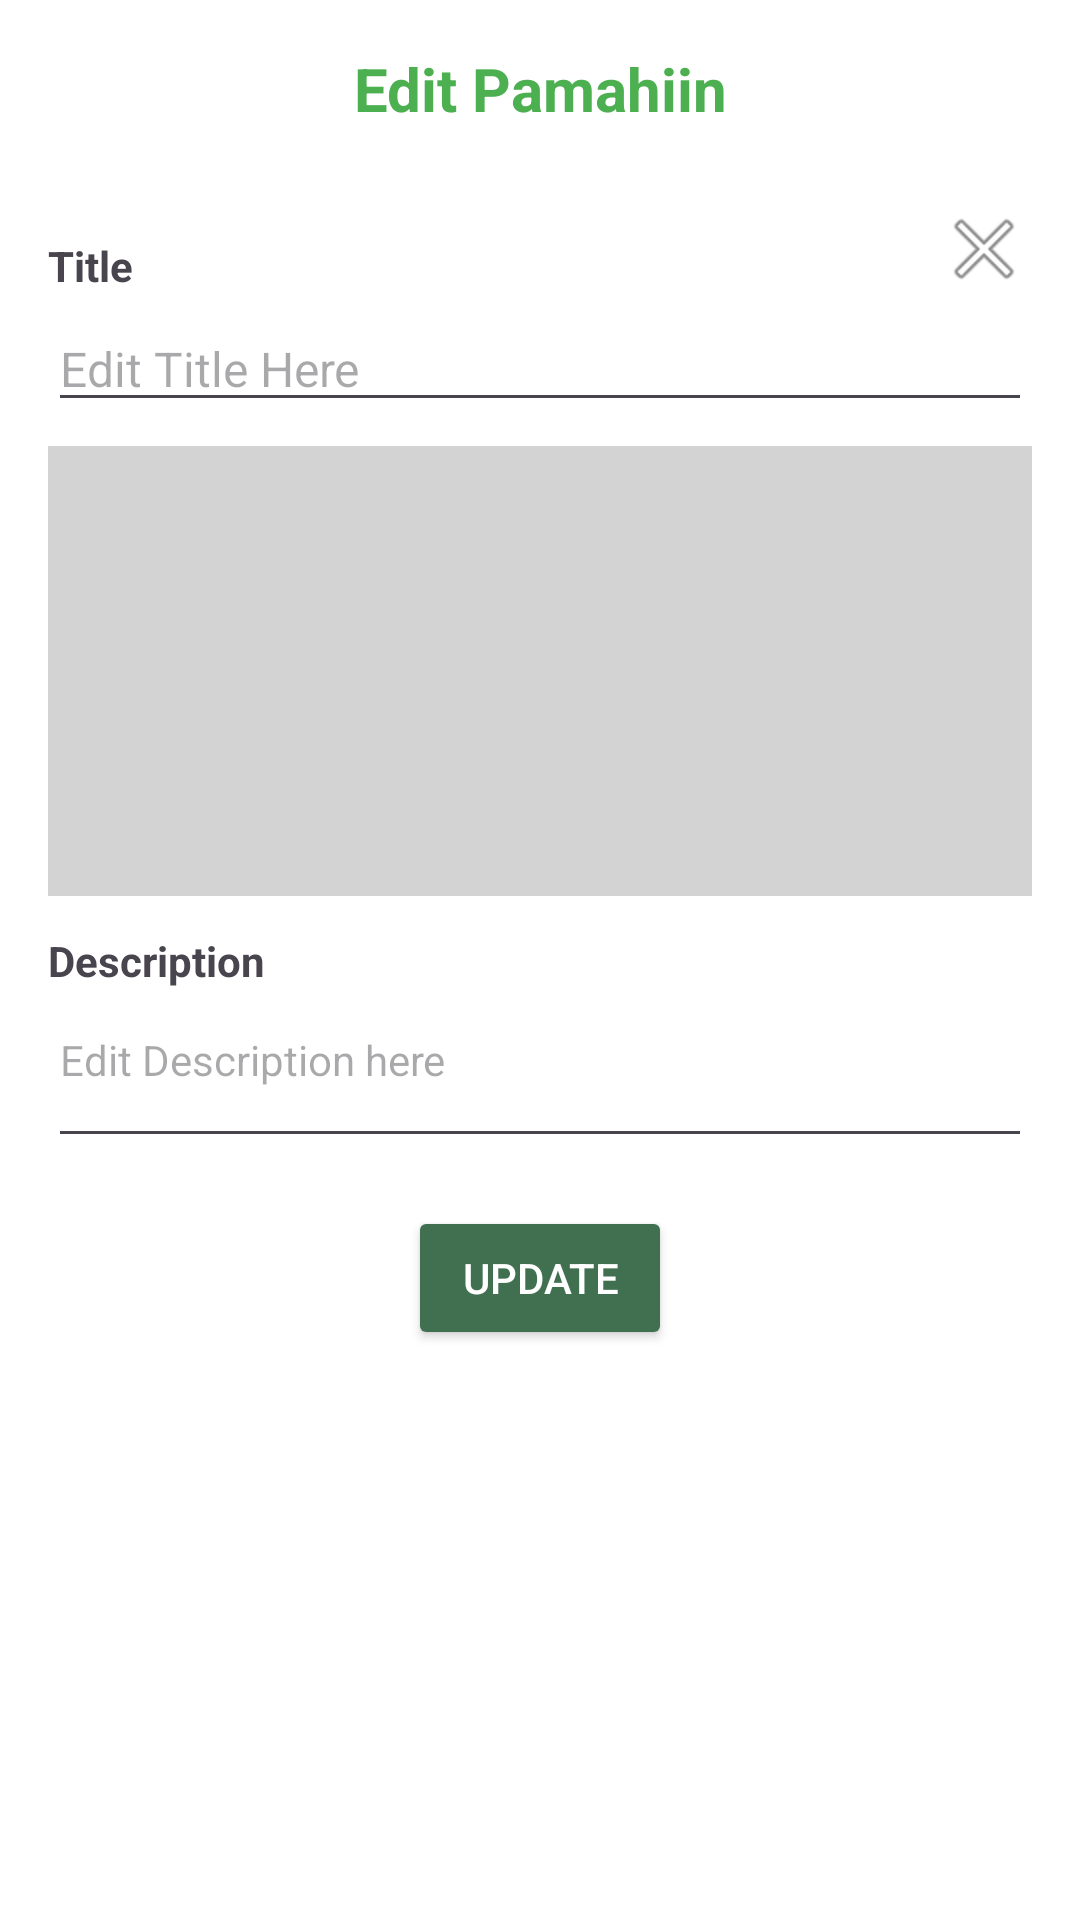

Named icons in this screenshot (1080*1920) and their bounding boxes, (x1, y1, x2, y2):
Close: (954, 219, 1014, 279)
